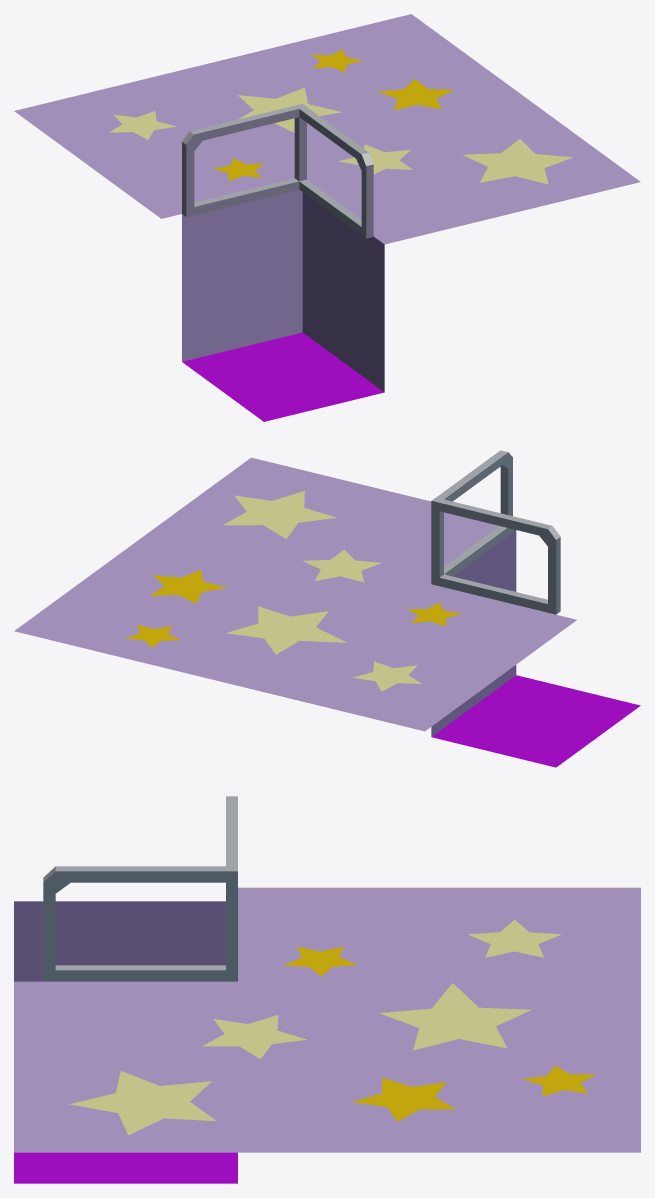
File: floor.glb
3 views of the same model, one above another, from view 1: azimuth 30°, elevation 25°; view 2: azimuth 150°, elevation 25°; view 3: azimuth 270°, elevation 25° (orthographic). The views are drawn at different scales.
Visible parts, largest first — view 1: floor; view 2: floor; view 3: floor.
Boxes of the visible parts, bbox=[...] form: floor: bbox=[14, 14, 640, 421]; floor: bbox=[14, 450, 640, 767]; floor: bbox=[14, 796, 640, 1183].
Size of the model in its own units: 12.5 by 6.87 by 12.5.
